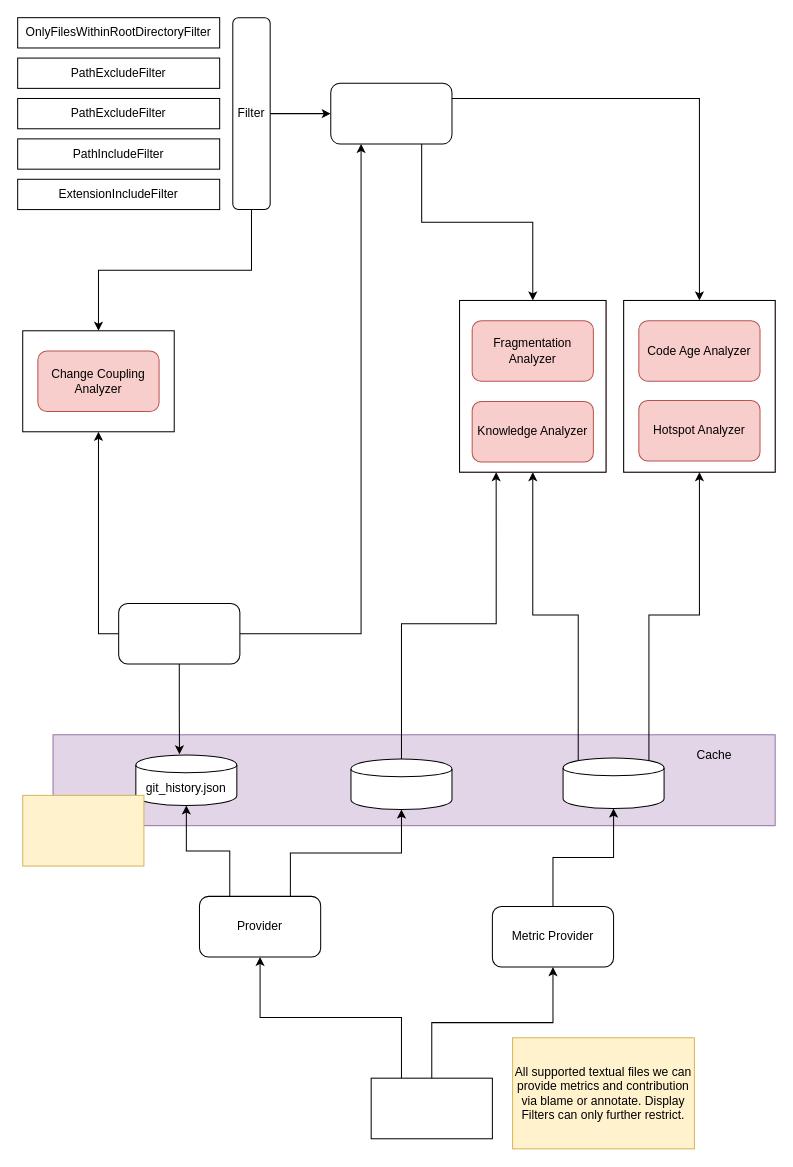
Image size: 793x1167. Some labels were removed from this diagram. The shapes that lost their labels are listed below. From the top down, each one's centre as x and y in pixels, then its label:
At point 391,113: "Artifact Summary".
At point 179,633: "ChangeSetHistory".
At point 401,784: "contribution.json".
At point 613,783: "metrics.json".
At point 83,830: "All tracked files. All deletes are removed.".
At point 431,1108: "Supported Languages".
